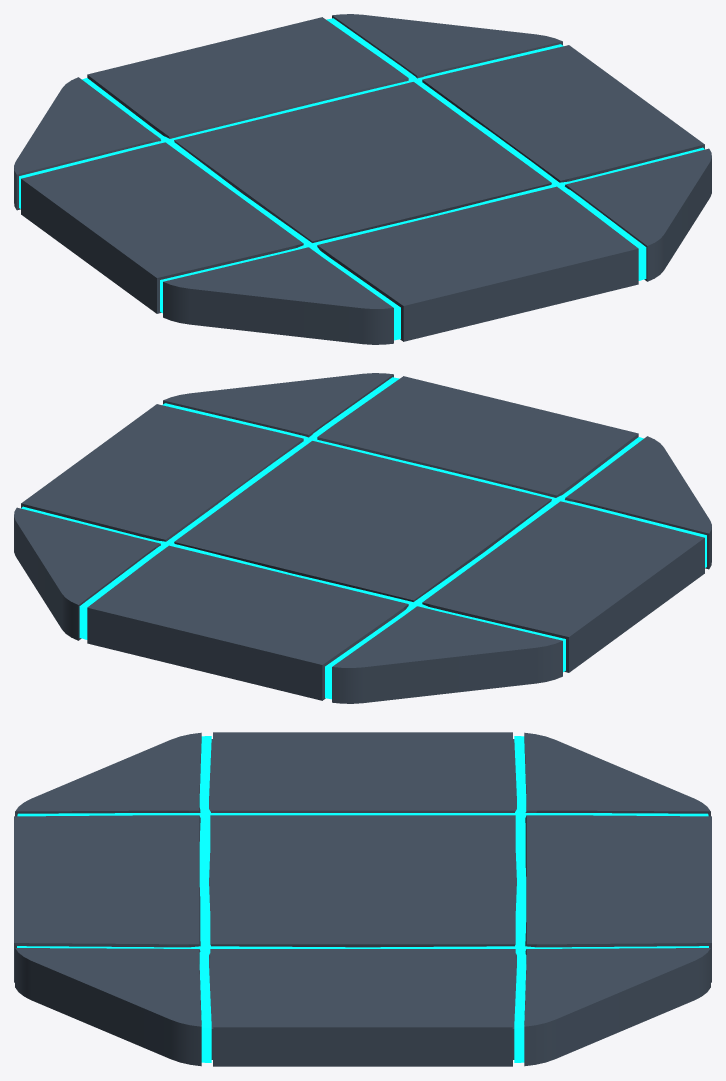
The model's file is Nivel_2-ModuloBoss.fbx.
3 renders of one model, top to bottom at view 1: azimuth 30°, elevation 25°; view 2: azimuth 150°, elevation 25°; view 3: azimuth 270°, elevation 25°, orthographic. The views are drawn at different scales.
Parts seen in each view (by area): view 1: polySurface19, polySurface20; view 2: polySurface19, polySurface20; view 3: polySurface19, polySurface20.
Boxes of the visible parts, x1,y1,x2,y2 form: polySurface19: (14, 14, 711, 344); polySurface20: (19, 18, 704, 340); polySurface19: (14, 373, 711, 703); polySurface20: (21, 377, 706, 699); polySurface19: (14, 732, 711, 1066); polySurface20: (17, 736, 708, 1062).
Size of the model in its own units: 30.23 by 1.89 by 30.23.
